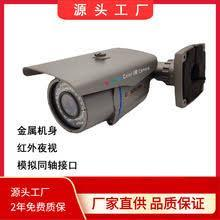tutu: (23, 48, 159, 133)
